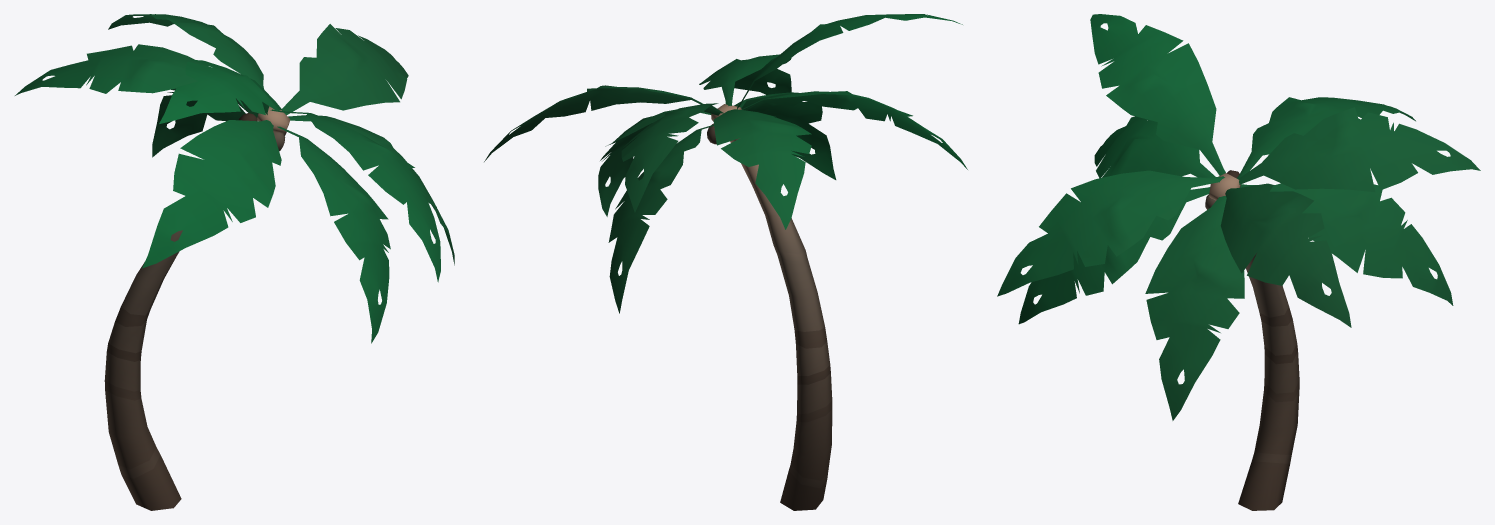
Rendered from PalmTree_05.fbx.
3 views of the same model, side by side, from view 1: azimuth 30°, elevation 25°; view 2: azimuth 150°, elevation 25°; view 3: azimuth 270°, elevation 25° (orthographic). The views are drawn at different scales.
Visible parts, largest first — view 1: Cylinder.186; view 2: Cylinder.186; view 3: Cylinder.186.
Boxes of the visible parts, box(x1,y1,x2,y2) form: Cylinder.186: box(15, 14, 454, 510); Cylinder.186: box(484, 14, 967, 510); Cylinder.186: box(997, 14, 1480, 510).
Size of the model in its own units: 499 by 591 by 558.
